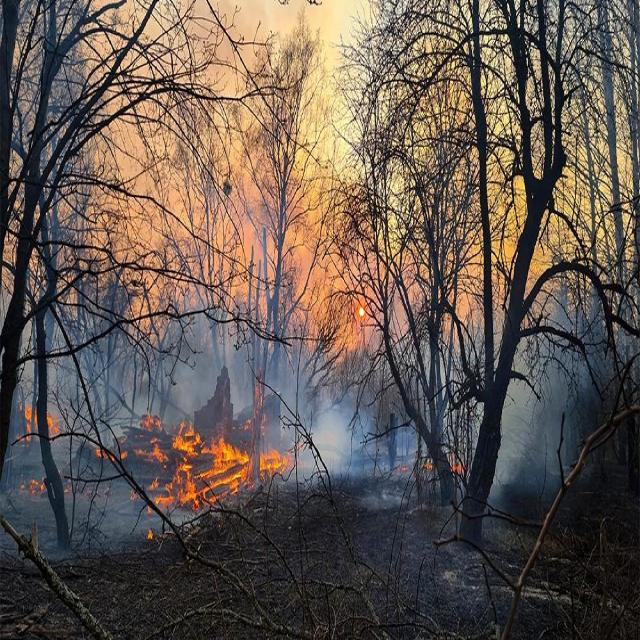Fire: (142, 413, 252, 509), (258, 446, 292, 474), (16, 398, 38, 441), (46, 408, 60, 434)
